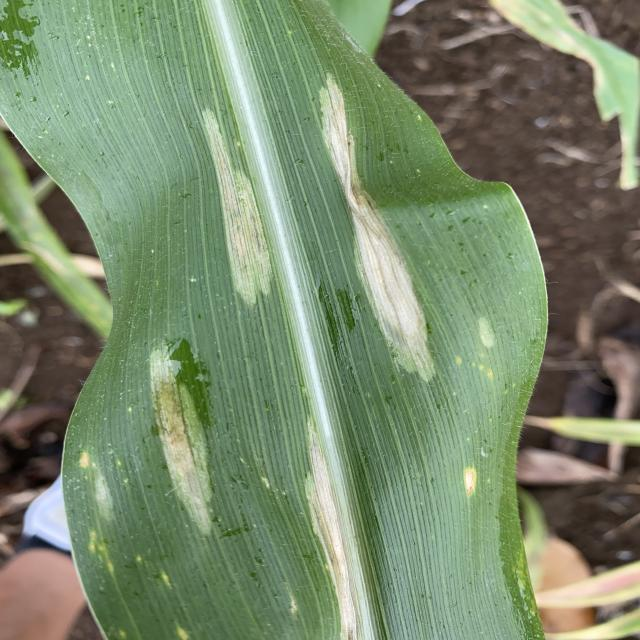Corn_Leaf_Blight: (85, 6, 514, 640)
